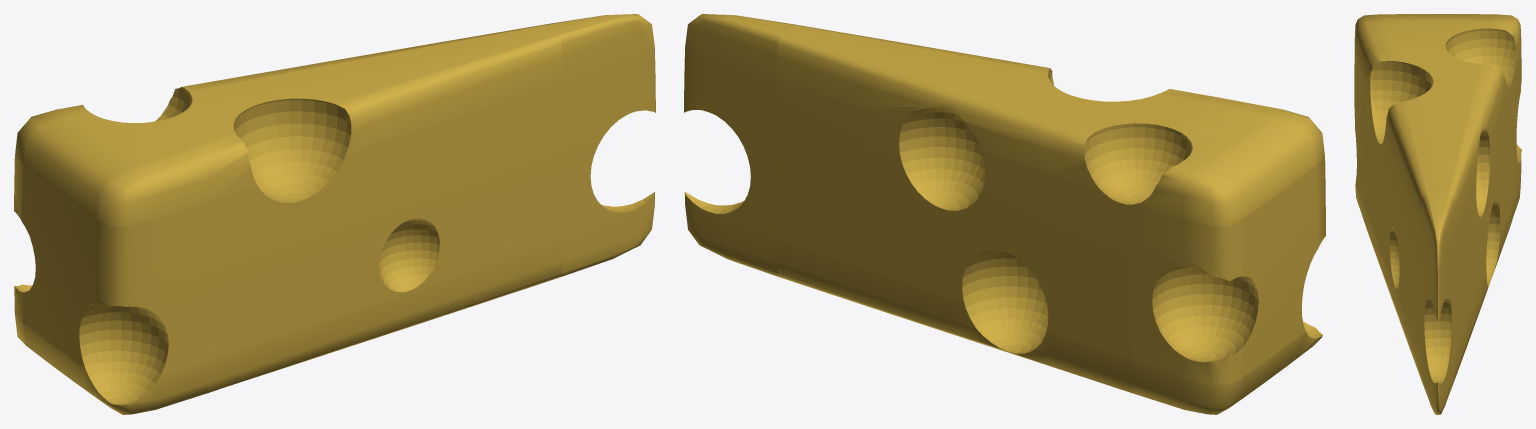
Rendered from cheese3.obj.
3 renders of one model, left to right at view 1: azimuth 30°, elevation 25°; view 2: azimuth 150°, elevation 25°; view 3: azimuth 270°, elevation 25°, orthographic. The views are drawn at different scales.
Parts seen in each view (by area): view 1: 立方体.003; view 2: 立方体.003; view 3: 立方体.003.
Part boxes in pixels (x1,y1,x2,y2): 立方体.003: [14, 14, 655, 414]; 立方体.003: [684, 14, 1325, 414]; 立方体.003: [1354, 14, 1521, 414].
Size of the model in its own units: 9.01 by 3.5 by 2.75.
